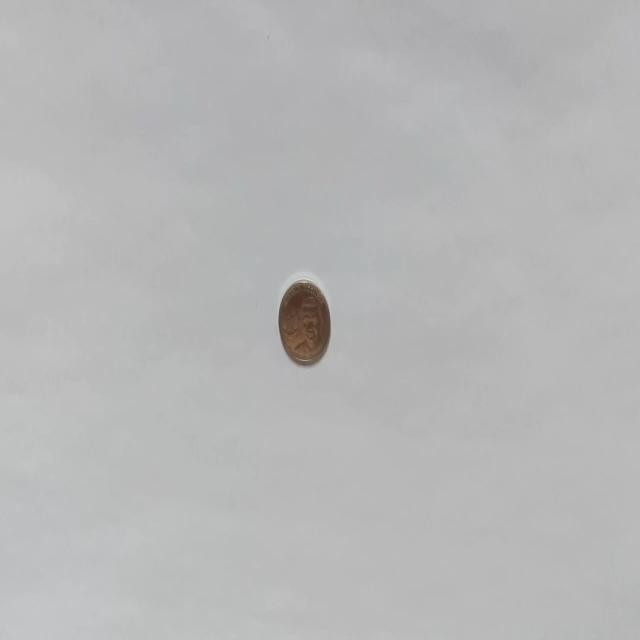seribu rupiah koin: (277, 272, 331, 366)
